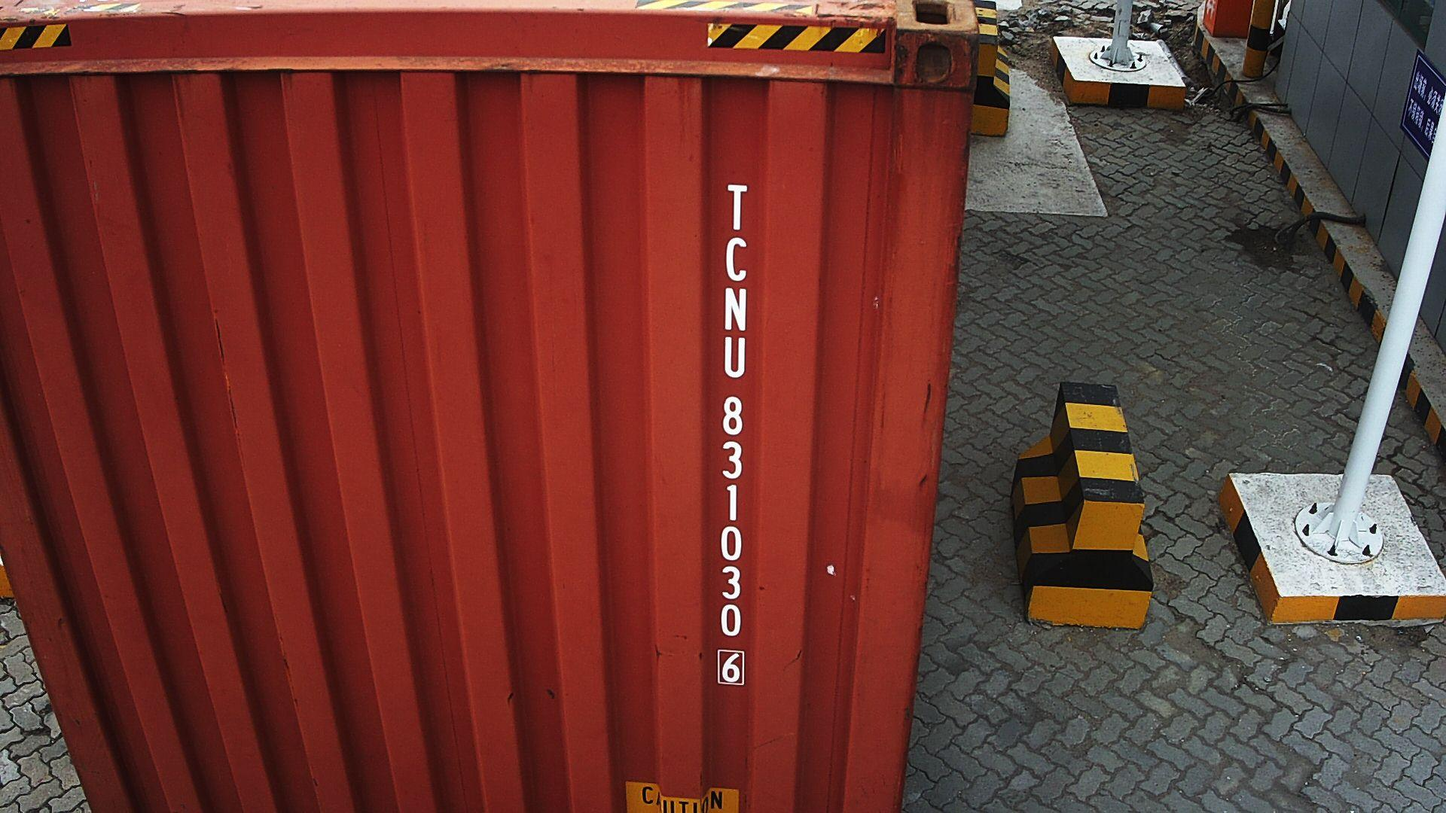container-numbers: (708, 178, 755, 691)
